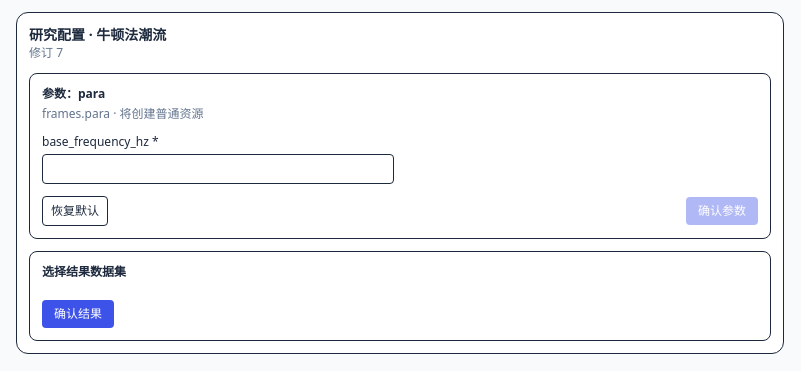
Test: StudyConfigurationCard › requires every catalog-required Struct field before confirming parameters
Expected: the button "确认参数" is disabled, [686,197,758,225]
In the number field labelled "base_frequency_hz *": (218,169) [42,154,394,184], type "50"
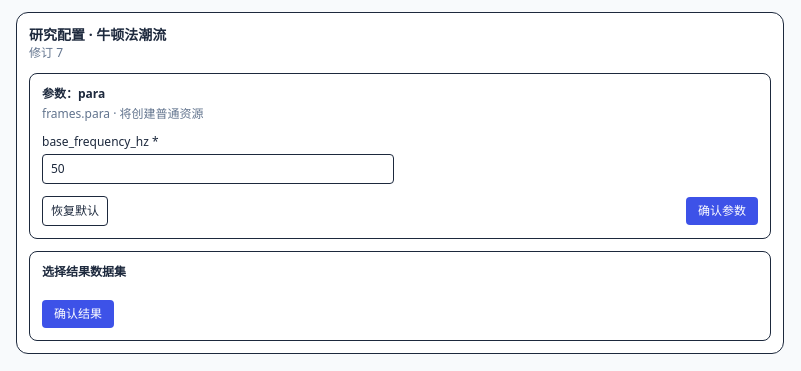
Now the button "确认参数" is enabled, box [686,197,758,225]
